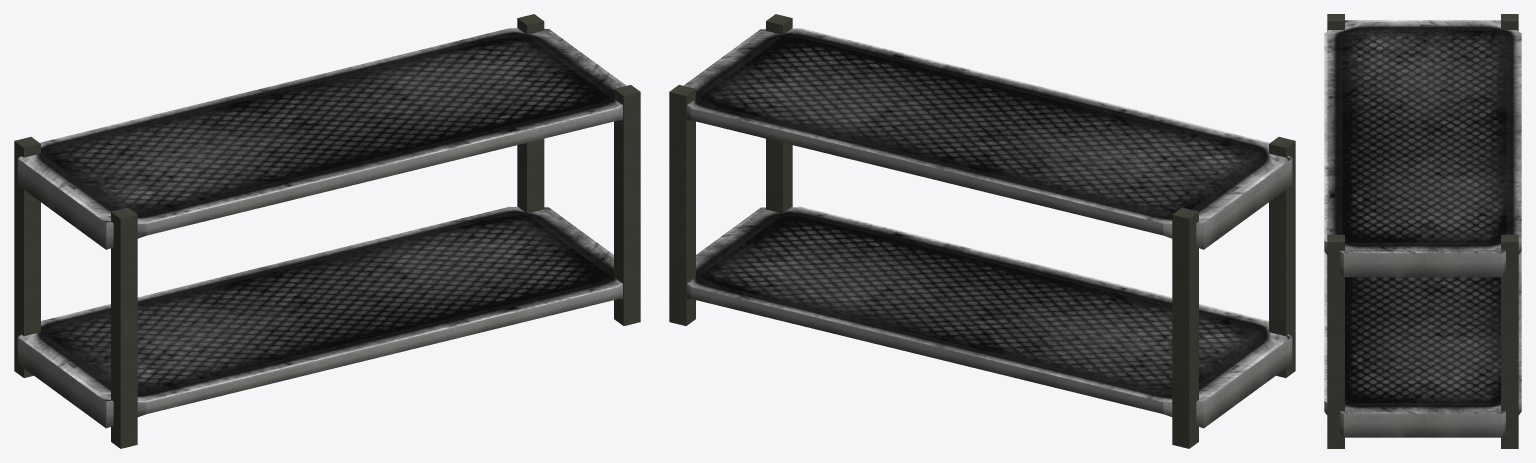
The model's file is Shelf03.fbx.
The picture shows the model from 3 angles, left to right: view 1: azimuth 30°, elevation 25°; view 2: azimuth 150°, elevation 25°; view 3: azimuth 270°, elevation 25°; orthographic projection. The views are drawn at different scales.
Visible parts, largest first — view 1: Shelf03; view 2: Shelf03; view 3: Shelf03.
Part boxes in pixels (x1,y1,x2,y2): Shelf03: (14, 14, 640, 448); Shelf03: (669, 14, 1295, 448); Shelf03: (1324, 14, 1521, 448).
Size of the model in its own units: 190 by 78.74 by 68.01.
